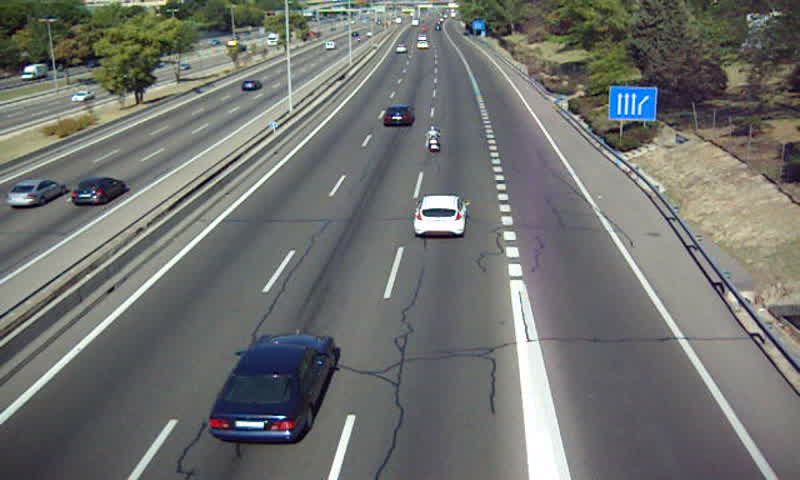car: (208, 336, 334, 445), (414, 196, 465, 238), (383, 105, 415, 126)
motorcycle: (424, 125, 444, 152)
